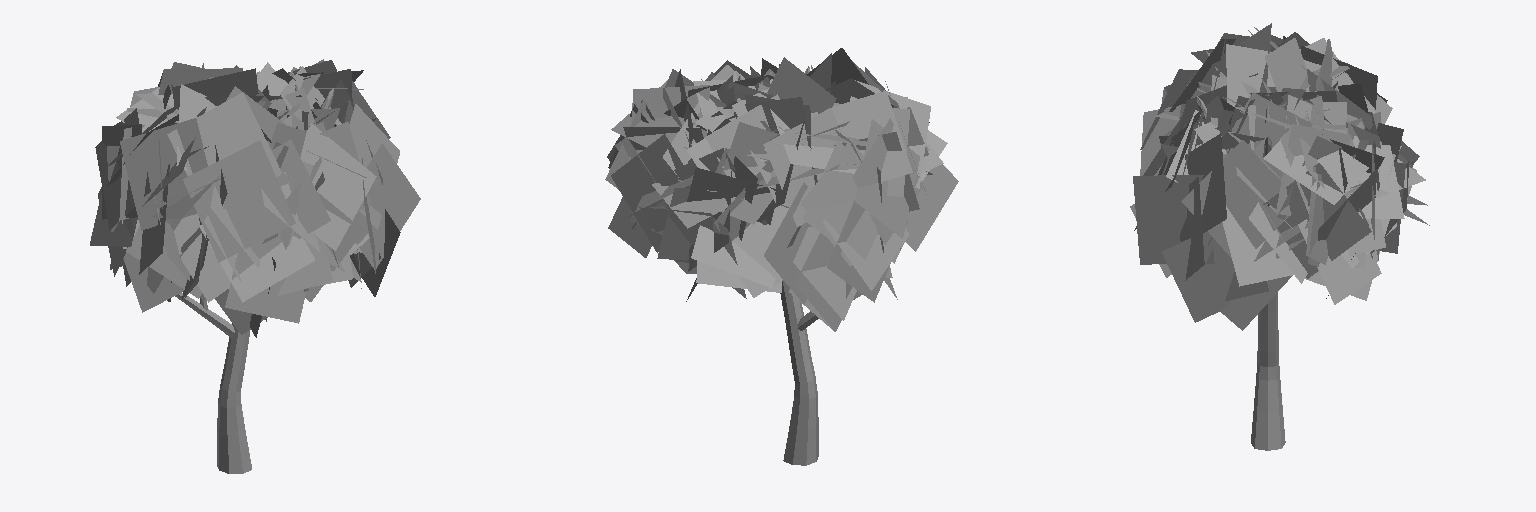
Rendered from MapleTree_4.obj.
The picture shows the model from 3 angles: view 1: azimuth 30°, elevation 25°; view 2: azimuth 150°, elevation 25°; view 3: azimuth 270°, elevation 25°; orthographic projection.
Visible parts, largest first — view 1: MapleTree_4_Cube.007; view 2: MapleTree_4_Cube.007; view 3: MapleTree_4_Cube.007.
Part boxes in pixels (x1,y1,x2,y2): MapleTree_4_Cube.007: (90,59,420,473); MapleTree_4_Cube.007: (605,48,958,465); MapleTree_4_Cube.007: (1130,23,1429,450).
Bounding box in the file's own units: 2.77 × 3.59 × 2.43.